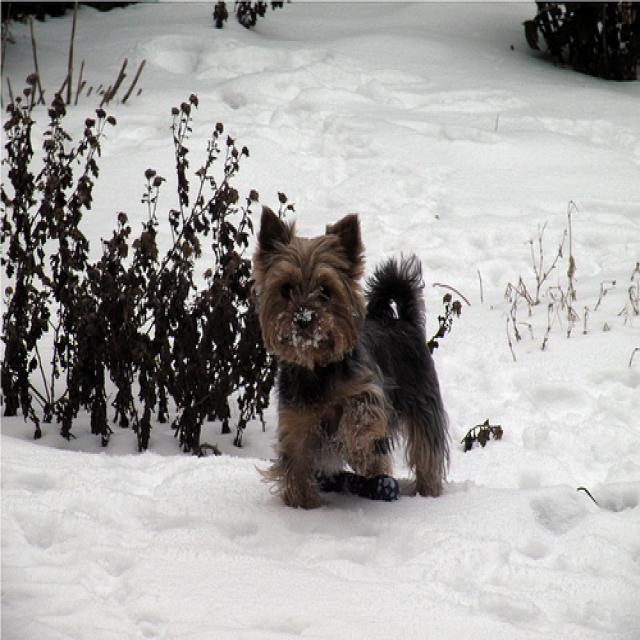dog-yorkshire_terrier: (244, 195, 453, 519)
